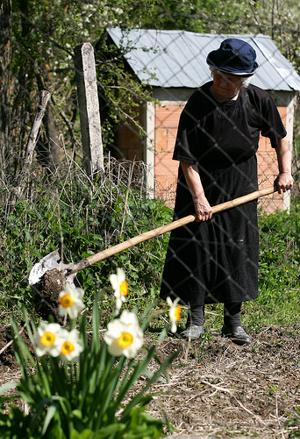person: (160, 34, 294, 347)
